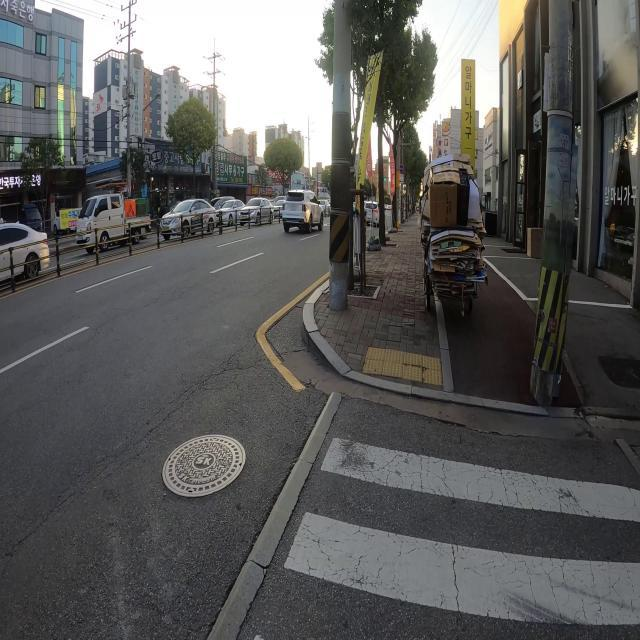crosswalk: (250, 415, 640, 640)
